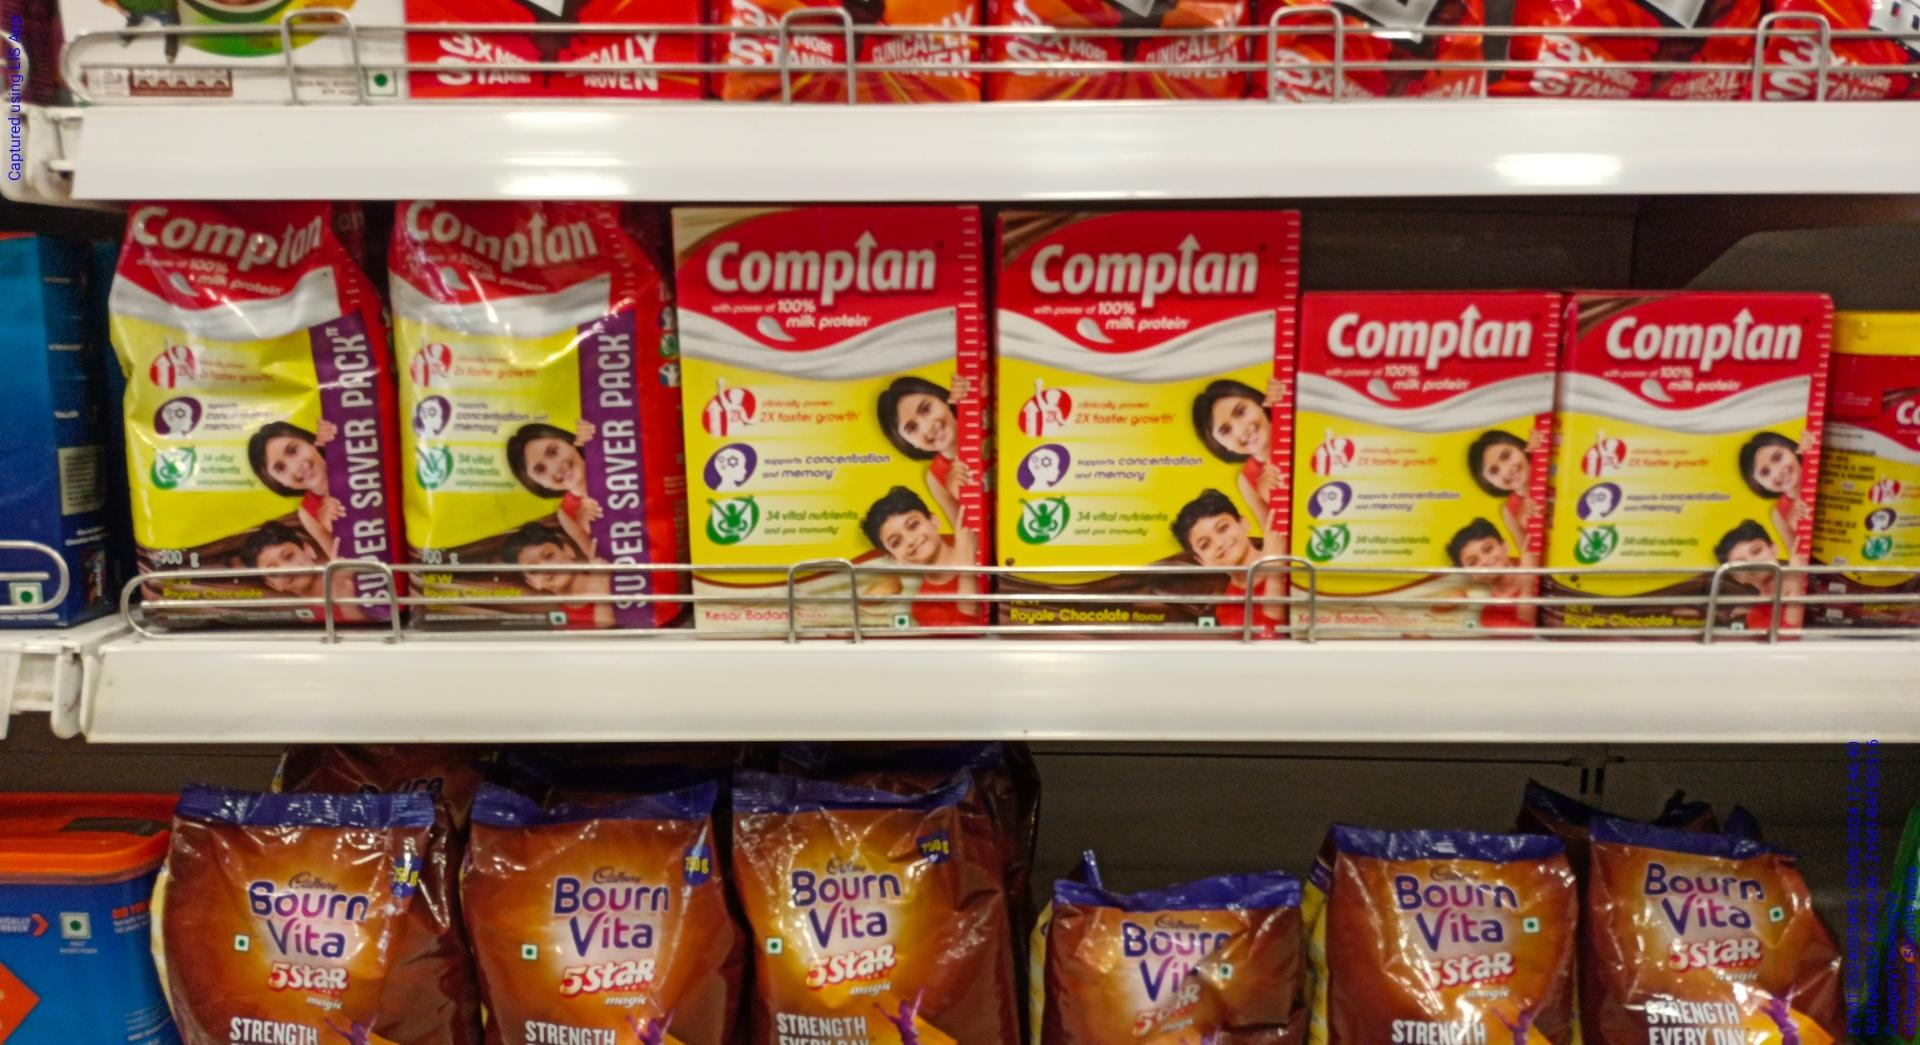BOURN_VITA_FIVE_STAR_MAGIC_750_G_POUCH: (175, 784, 463, 1045), (748, 782, 1008, 1045), (485, 785, 725, 1045)
COMPLAN_RC_POUCH_700_GMS_12: (390, 203, 674, 624), (118, 203, 382, 619)
